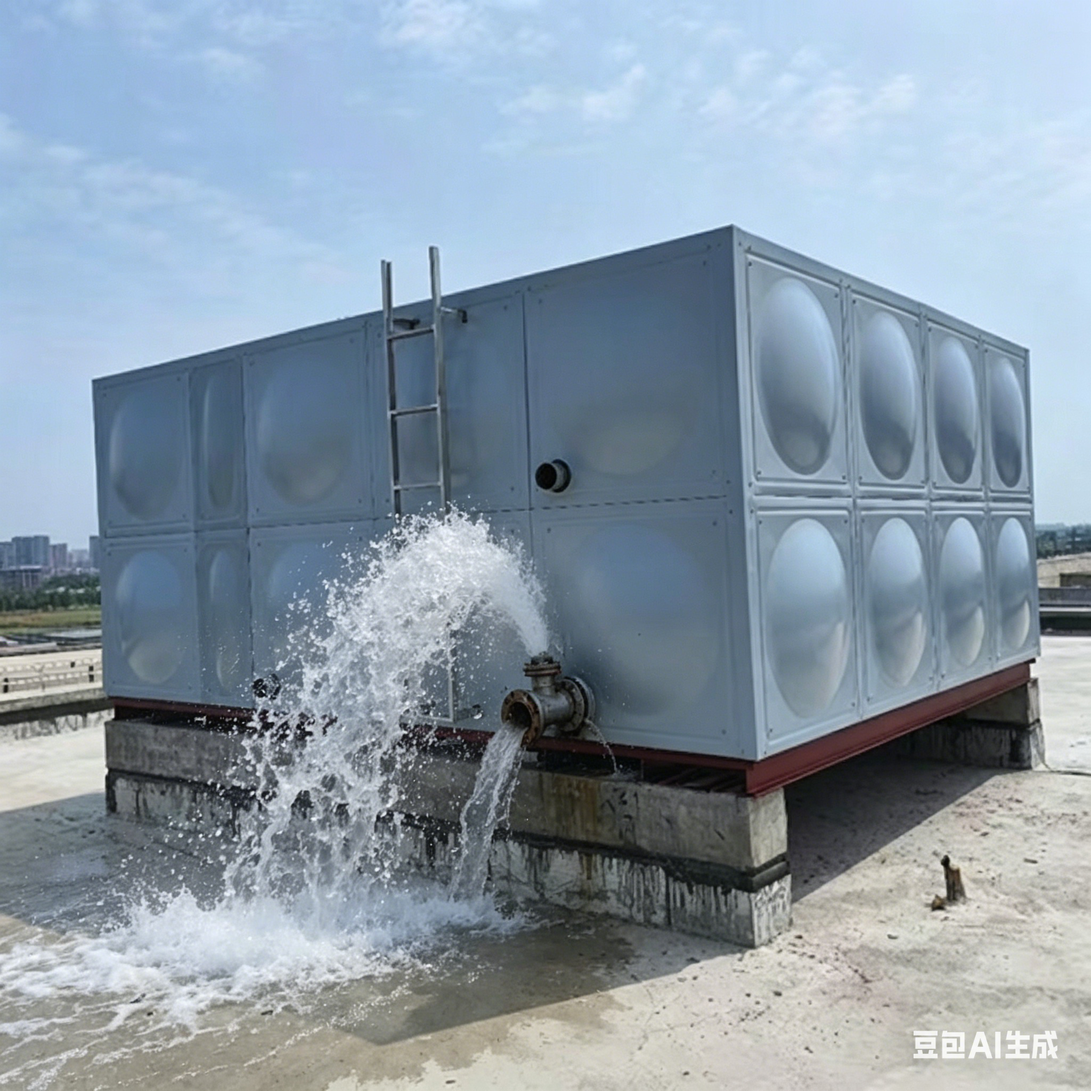Leakage: (191, 531, 541, 1035), (24, 864, 183, 1057)
